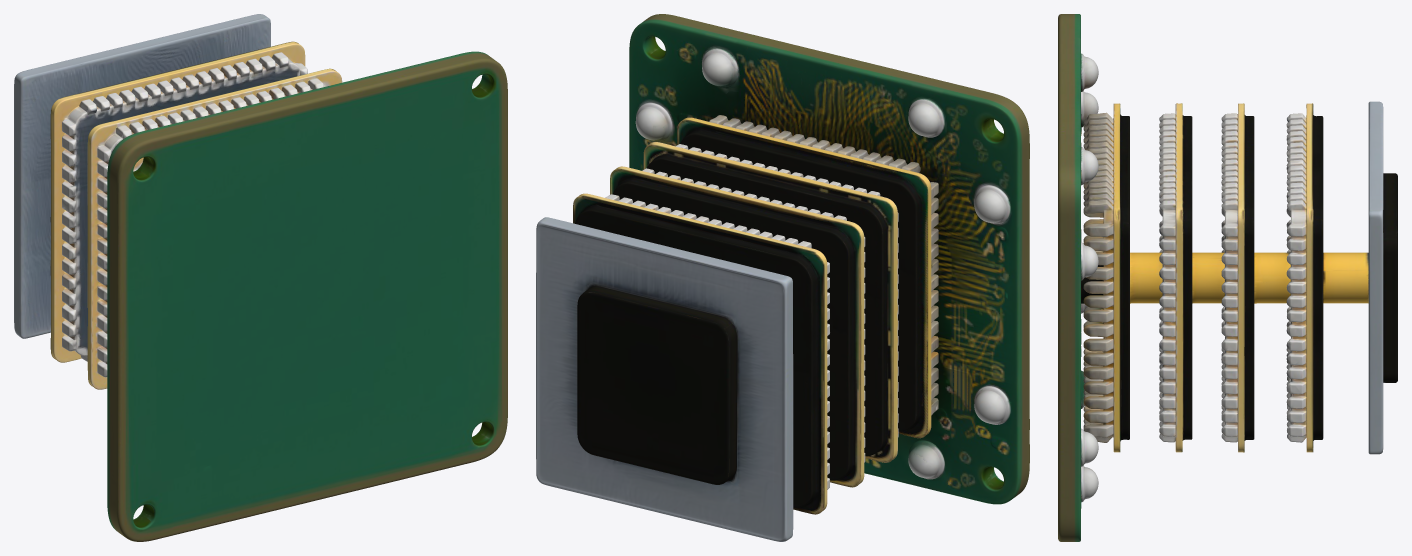
Rendered from hbm_package_web.glb.
3 views of the same model, side by side, from view 1: azimuth 30°, elevation 25°; view 2: azimuth 150°, elevation 25°; view 3: azimuth 270°, elevation 25° (orthographic). The views are drawn at different scales.
Visible parts, largest first — view 1: hbm_substrate, hbm_cap, hbm_dram_upper, hbm_dram_middle; view 2: hbm_substrate, hbm_cap, hbm_logic_die, hbm_dram_upper, hbm_dram_middle, hbm_dram_lower; view 3: hbm_substrate, hbm_dram_upper, hbm_logic_die, hbm_dram_middle, hbm_dram_lower, hbm_cap.
Boxes of the visible parts, x1,y1,x2,y2 form: hbm_substrate: [107, 51, 507, 541]; hbm_cap: [14, 14, 270, 338]; hbm_dram_upper: [50, 41, 307, 362]; hbm_dram_middle: [87, 68, 342, 389]; hbm_substrate: [629, 14, 1029, 504]; hbm_cap: [536, 217, 793, 541]; hbm_logic_die: [636, 62, 995, 476]; hbm_dram_upper: [573, 193, 829, 514]; hbm_dram_middle: [610, 166, 865, 487]; hbm_dram_lower: [643, 142, 898, 462]; hbm_substrate: [1058, 14, 1101, 541]; hbm_dram_upper: [1263, 103, 1365, 452]; hbm_logic_die: [1084, 62, 1151, 493]; hbm_dram_middle: [1200, 103, 1273, 452]; hbm_dram_lower: [1138, 103, 1213, 452]; hbm_cap: [1348, 101, 1397, 454].
Size of the model in its own units: 0.7688 by 0.7558 by 0.625.
1 material, 1 textured.
